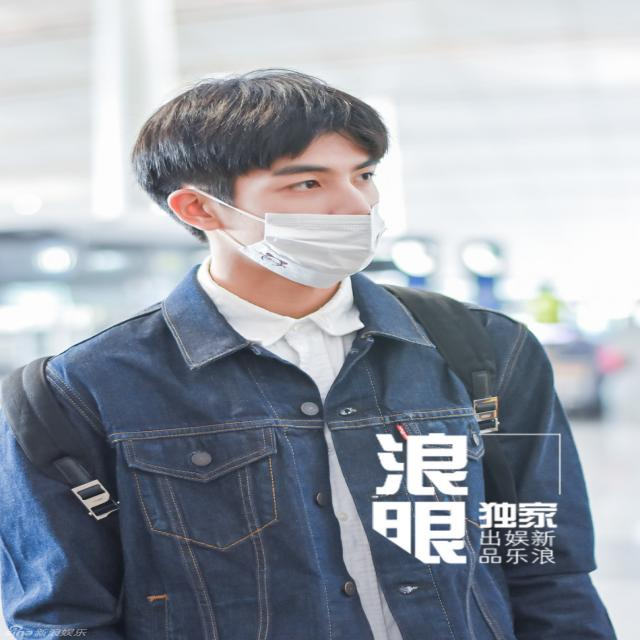mask: (227, 118, 381, 277)
